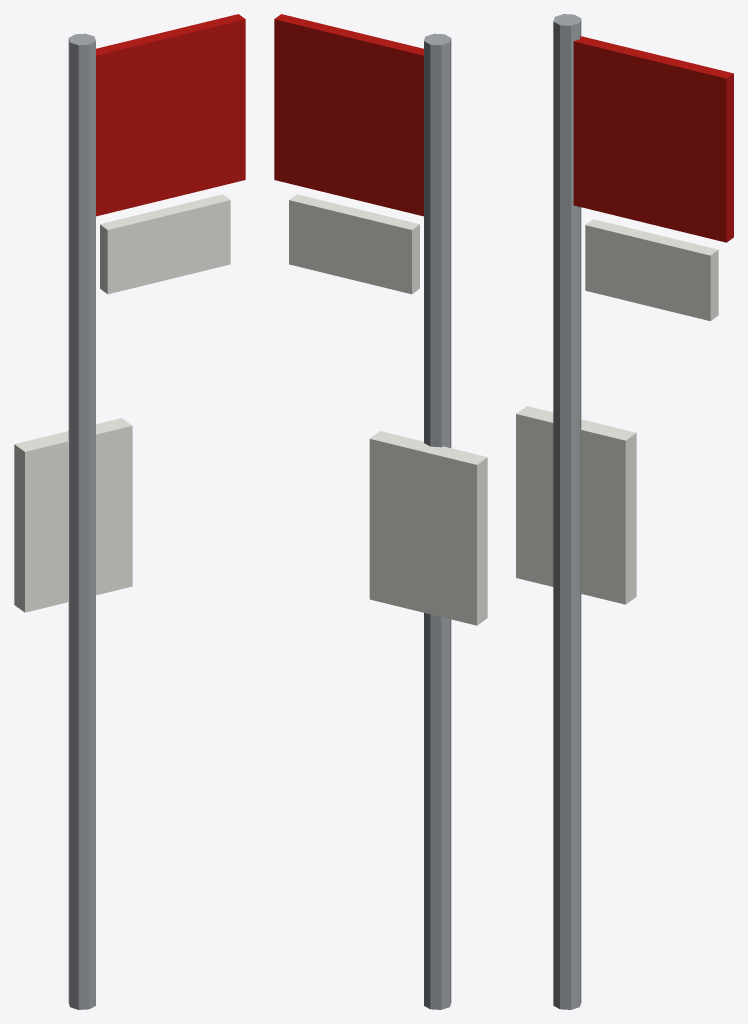
Rendered from station.bus.bus_stand.glb.
3 renders of one model, left to right at view 1: azimuth 30°, elevation 25°; view 2: azimuth 150°, elevation 25°; view 3: azimuth 330°, elevation 25°, orthographic. The views are drawn at different scales.
Parts seen in each view (by area): view 1: main__steel_galvanised, main__plastic_red, main__paint_white; view 2: main__paint_white, main__plastic_red, main__steel_galvanised; view 3: main__plastic_red, main__steel_galvanised, main__paint_white.
Part boxes in pixels (x1,y1,x2,y2): main__steel_galvanised: [68, 33, 95, 1009]; main__plastic_red: [96, 14, 245, 216]; main__paint_white: [14, 194, 230, 612]; main__paint_white: [289, 194, 487, 625]; main__plastic_red: [274, 14, 423, 216]; main__steel_galvanised: [424, 33, 451, 1009]; main__plastic_red: [573, 36, 733, 242]; main__steel_galvanised: [553, 14, 581, 1009]; main__paint_white: [516, 219, 718, 604].
Size of the model in its own units: 0.695 by 3 by 0.12.
